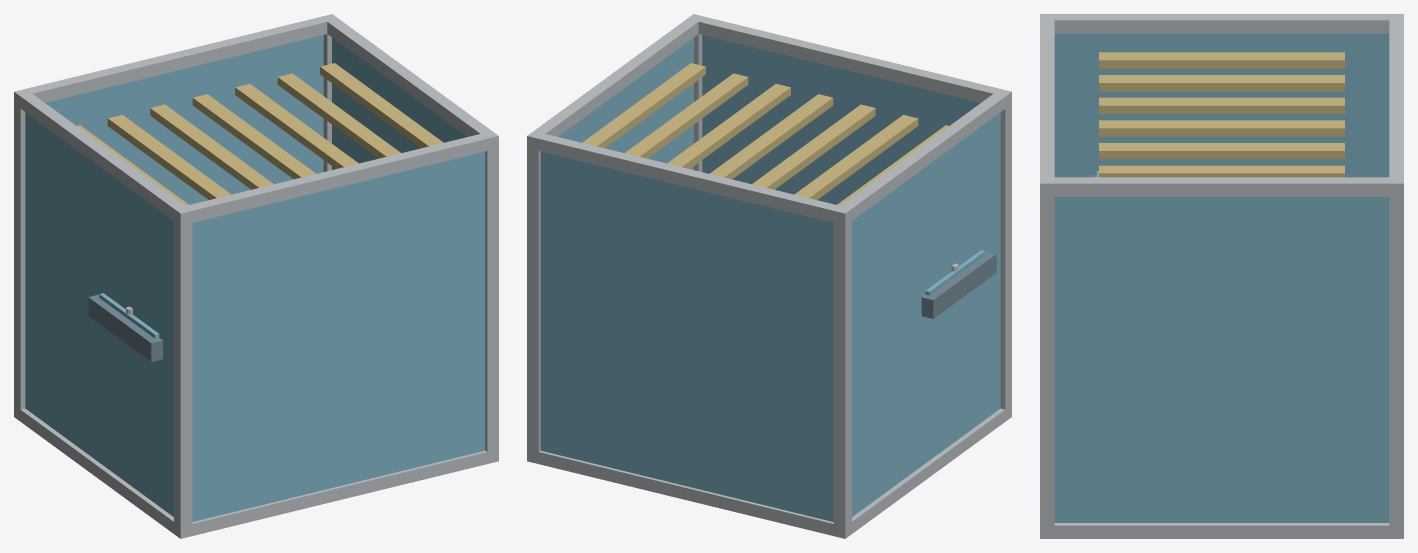
Rendered from 43_L79_BondThermalConsolidationChamber.glb.
3 renders of one model, left to right at view 1: azimuth 30°, elevation 25°; view 2: azimuth 150°, elevation 25°; view 3: azimuth 270°, elevation 25°, orthographic. The views are drawn at different scales.
Visible parts, largest first — view 1: BondThermalConsolidationChamber_Node_0013, BondThermalConsolidationChamber_Node_0014, BondThermalConsolidationChamber_Node_0012, BondThermalConsolidationChamber_Node_0001, BondThermalConsolidationChamber_Node_0009, BondThermalConsolidationChamber_Node_0008, BondThermalConsolidationChamber_Node_0015, BondThermalConsolidationChamber_Node_0005, BondThermalConsolidationChamber_Node_0003, BondThermalConsolidationChamber_Node_0010, BondThermalConsolidationChamber_Node_0000, BondThermalConsolidationChamber_Node_0011 (+9 smaller); view 2: BondThermalConsolidationChamber_Node_0012, BondThermalConsolidationChamber_Node_0014, BondThermalConsolidationChamber_Node_0013, BondThermalConsolidationChamber_Node_0000, BondThermalConsolidationChamber_Node_0008, BondThermalConsolidationChamber_Node_0009, BondThermalConsolidationChamber_Node_0015, BondThermalConsolidationChamber_Node_0004, BondThermalConsolidationChamber_Node_0002, BondThermalConsolidationChamber_Node_0010, BondThermalConsolidationChamber_Node_0001, BondThermalConsolidationChamber_Node_0011 (+9 smaller); view 3: BondThermalConsolidationChamber_Node_0015, BondThermalConsolidationChamber_Node_0014, BondThermalConsolidationChamber_Node_0011, BondThermalConsolidationChamber_Node_0010, BondThermalConsolidationChamber_Node_0007, BondThermalConsolidationChamber_Node_0003, BondThermalConsolidationChamber_Node_0002, BondThermalConsolidationChamber_Node_0018, BondThermalConsolidationChamber_Node_0019, BondThermalConsolidationChamber_Node_0020, BondThermalConsolidationChamber_Node_0021, BondThermalConsolidationChamber_Node_0022 (+3 smaller).
Boxes of the visible parts, box(x1,y1,x2,y2) form: BondThermalConsolidationChamber_Node_0013: box(192, 151, 485, 521); BondThermalConsolidationChamber_Node_0014: box(25, 112, 173, 516); BondThermalConsolidationChamber_Node_0012: box(45, 35, 323, 204); BondThermalConsolidationChamber_Node_0001: box(174, 206, 192, 538); BondThermalConsolidationChamber_Node_0009: box(174, 132, 498, 225); BondThermalConsolidationChamber_Node_0008: box(14, 14, 337, 105); BondThermalConsolidationChamber_Node_0015: box(332, 37, 467, 169); BondThermalConsolidationChamber_Node_0005: box(174, 449, 498, 538); BondThermalConsolidationChamber_Node_0003: box(485, 131, 498, 461); BondThermalConsolidationChamber_Node_0010: box(14, 89, 191, 223); BondThermalConsolidationChamber_Node_0000: box(14, 89, 25, 421); BondThermalConsolidationChamber_Node_0011: box(327, 15, 497, 145); BondThermalConsolidationChamber_Node_0012: box(540, 151, 833, 521); BondThermalConsolidationChamber_Node_0014: box(852, 112, 1000, 516); BondThermalConsolidationChamber_Node_0013: box(702, 35, 980, 204); BondThermalConsolidationChamber_Node_0000: box(833, 206, 851, 538); BondThermalConsolidationChamber_Node_0008: box(527, 131, 850, 225); BondThermalConsolidationChamber_Node_0009: box(688, 15, 1011, 106); BondThermalConsolidationChamber_Node_0015: box(558, 37, 693, 169); BondThermalConsolidationChamber_Node_0004: box(527, 449, 851, 538); BondThermalConsolidationChamber_Node_0002: box(527, 131, 544, 463); BondThermalConsolidationChamber_Node_0010: box(834, 89, 1010, 224); BondThermalConsolidationChamber_Node_0001: box(999, 89, 1011, 421); BondThermalConsolidationChamber_Node_0011: box(527, 15, 699, 148); BondThermalConsolidationChamber_Node_0015: box(1054, 197, 1389, 522); BondThermalConsolidationChamber_Node_0014: box(1054, 33, 1389, 177); BondThermalConsolidationChamber_Node_0011: box(1040, 177, 1403, 196); BondThermalConsolidationChamber_Node_0010: box(1040, 14, 1402, 33); BondThermalConsolidationChamber_Node_0007: box(1041, 523, 1403, 538); BondThermalConsolidationChamber_Node_0003: box(1040, 177, 1054, 538); BondThermalConsolidationChamber_Node_0002: box(1389, 177, 1403, 538); BondThermalConsolidationChamber_Node_0018: box(1099, 52, 1344, 68); BondThermalConsolidationChamber_Node_0019: box(1099, 75, 1344, 91); BondThermalConsolidationChamber_Node_0020: box(1099, 97, 1344, 113); BondThermalConsolidationChamber_Node_0021: box(1099, 120, 1344, 136); BondThermalConsolidationChamber_Node_0022: box(1099, 143, 1344, 159).
Bounding box in the file's own units: 3.06 × 2.93 × 2.72.
